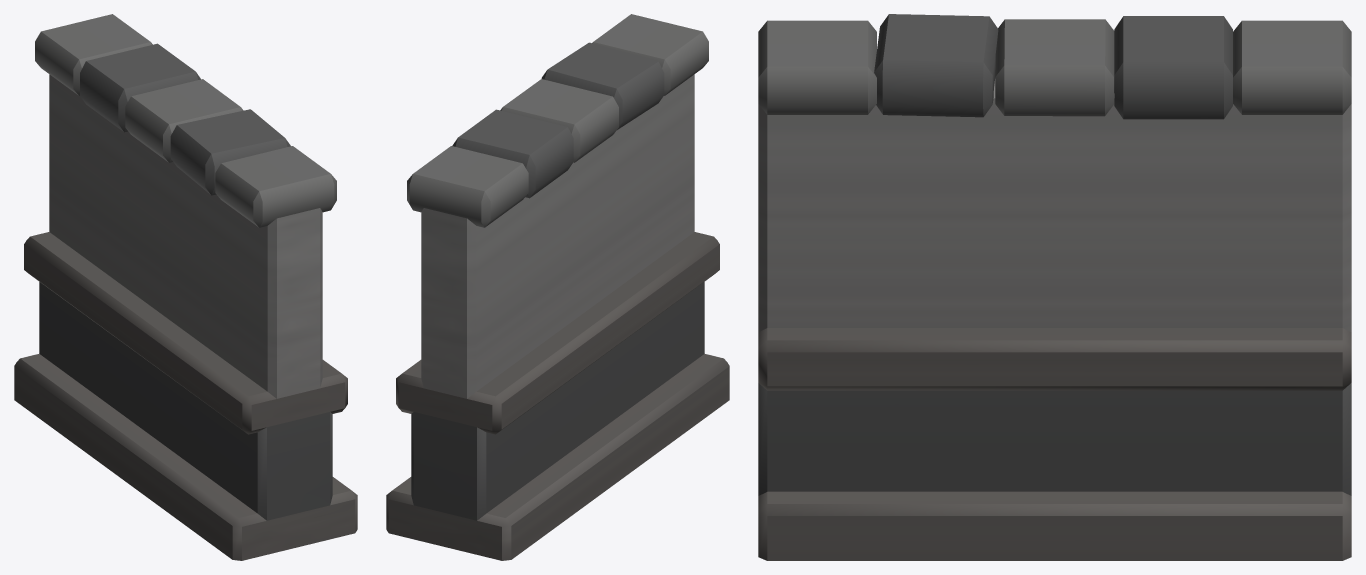
Rendered from Wall_1_1.obj.
The picture shows the model from 3 angles, left to right: view 1: azimuth 30°, elevation 25°; view 2: azimuth 150°, elevation 25°; view 3: azimuth 270°, elevation 25°; orthographic projection. The views are drawn at different scales.
Parts seen in each view (by area): view 1: Wall_1_1; view 2: Wall_1_1; view 3: Wall_1_1.
Part boxes in pixels (x1,y1,x2,y2): Wall_1_1: (14, 14, 357, 560); Wall_1_1: (386, 14, 729, 560); Wall_1_1: (758, 14, 1351, 560).
Size of the model in its own units: 0.6259 by 1.75 by 1.95.
